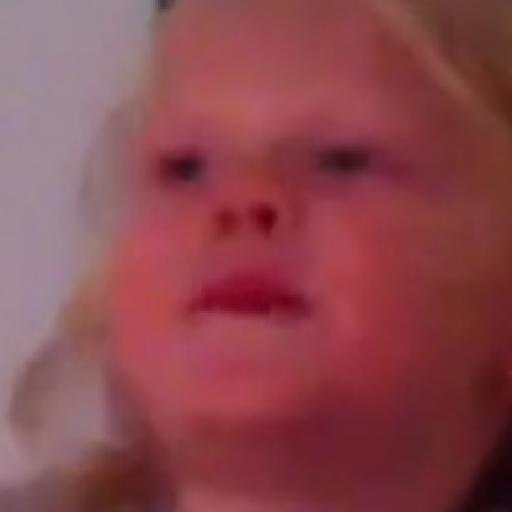Autism: (89, 20, 512, 512)
